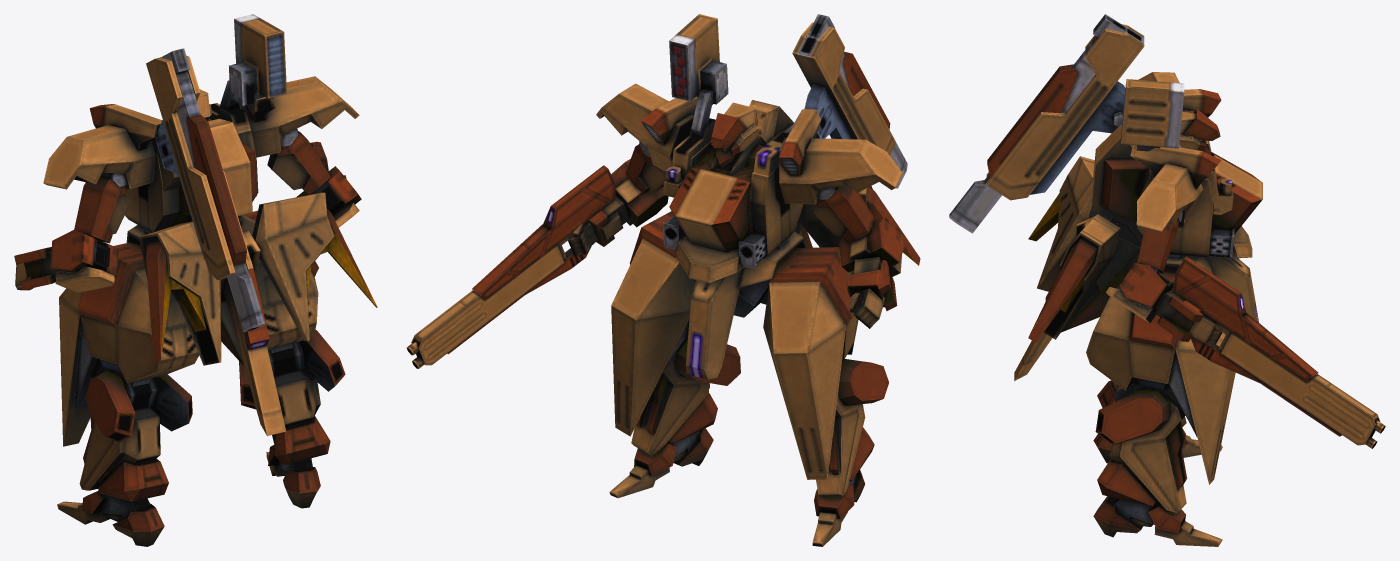
The model's file is DGZZ_mecha-16.glb.
3 views of the same model, side by side, from view 1: azimuth 30°, elevation 25°; view 2: azimuth 150°, elevation 25°; view 3: azimuth 270°, elevation 25° (orthographic). The views are drawn at different scales.
Parts seen in each view (by area): view 1: rd28; view 2: rd28; view 3: rd28.
Boxes of the visible parts, x1,y1,x2,y2 form: rd28: [14, 14, 377, 546]; rd28: [406, 14, 920, 546]; rd28: [949, 14, 1385, 546].
Size of the model in its own units: 2.59 by 3.04 by 2.63.
Materials: 1 (1 with a texture image).
